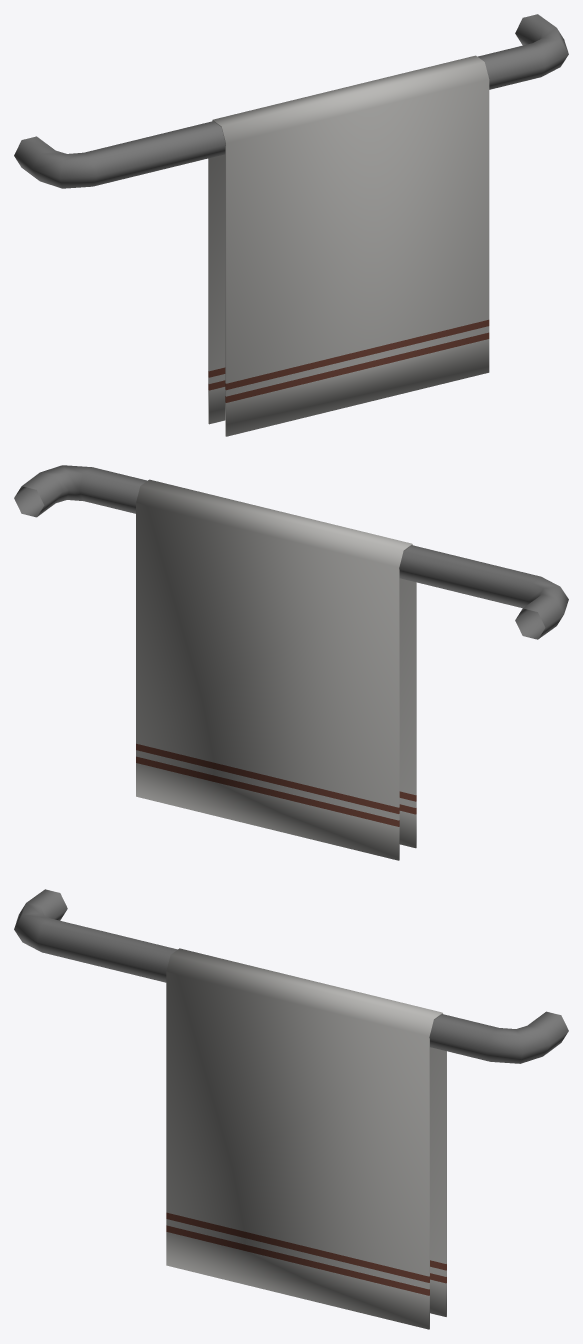
Rendered from Bathroom_Towel.glb.
3 views of the same model, one above another, from view 1: azimuth 30°, elevation 25°; view 2: azimuth 150°, elevation 25°; view 3: azimuth 330°, elevation 25° (orthographic).
Parts seen in each view (by area): view 1: Bathroom_Towel; view 2: Bathroom_Towel; view 3: Bathroom_Towel.
Boxes of the visible parts, bbox=[...] form: Bathroom_Towel: bbox=[14, 14, 568, 436]; Bathroom_Towel: bbox=[14, 465, 568, 860]; Bathroom_Towel: bbox=[14, 889, 568, 1329].
Size of the model in its own units: 1.18 by 0.6538 by 0.1611.
